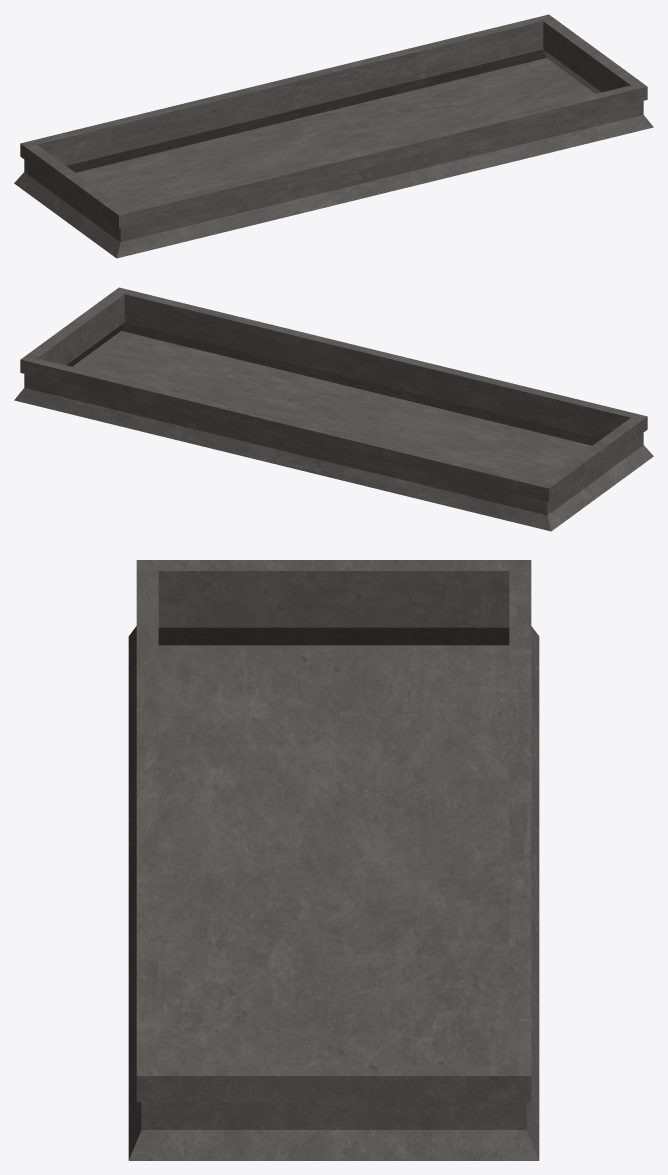
Rendered from 26_04_2020_jardineralarga.fbx.
3 renders of one model, top to bottom at view 1: azimuth 30°, elevation 25°; view 2: azimuth 150°, elevation 25°; view 3: azimuth 270°, elevation 25°, orthographic. The views are drawn at different scales.
Parts seen in each view (by area): view 1: Plane.006; view 2: Plane.006; view 3: Plane.006.
Part boxes in pixels (x1,y1,x2,y2): Plane.006: [14, 14, 653, 258]; Plane.006: [14, 287, 653, 531]; Plane.006: [128, 560, 539, 1160].
Size of the model in its own units: 3710 by 266 by 1228.
